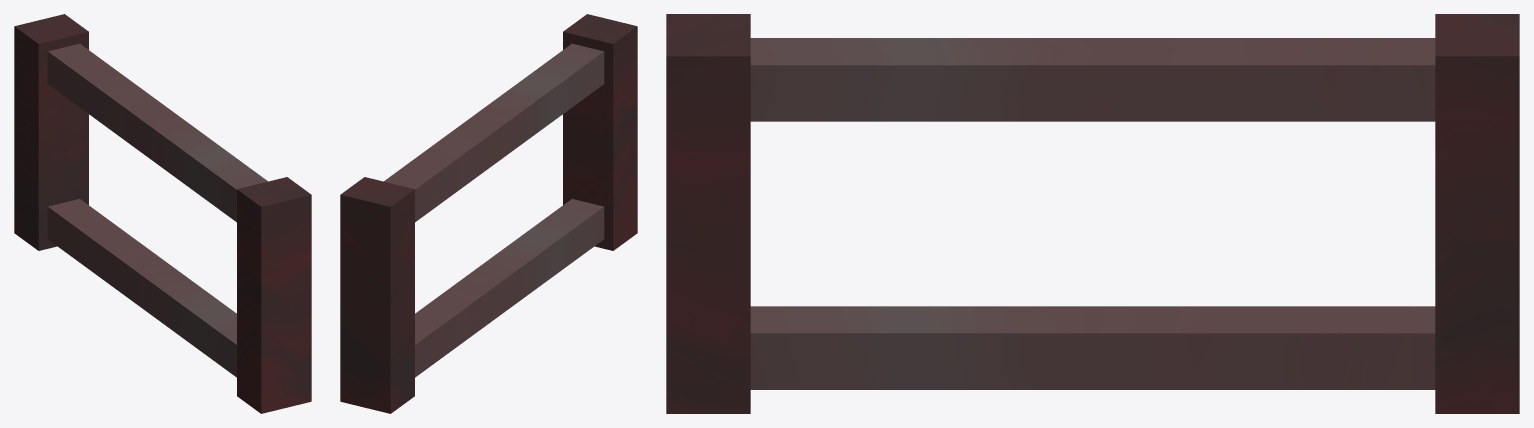
Rendered from enemyFence.obj.
3 views of the same model, side by side, from view 1: azimuth 30°, elevation 25°; view 2: azimuth 150°, elevation 25°; view 3: azimuth 270°, elevation 25° (orthographic). The views are drawn at different scales.
Parts seen in each view (by area): view 1: 柵; view 2: 柵; view 3: 柵.
Boxes of the visible parts, left/top/right/bottom form: 柵: left=14, top=14, right=311, bottom=413; 柵: left=340, top=14, right=637, bottom=413; 柵: left=666, top=14, right=1519, bottom=413.
Size of the model in its own units: 0.2211 by 0.868 by 1.88.
Materials: 1 (1 with a texture image).
